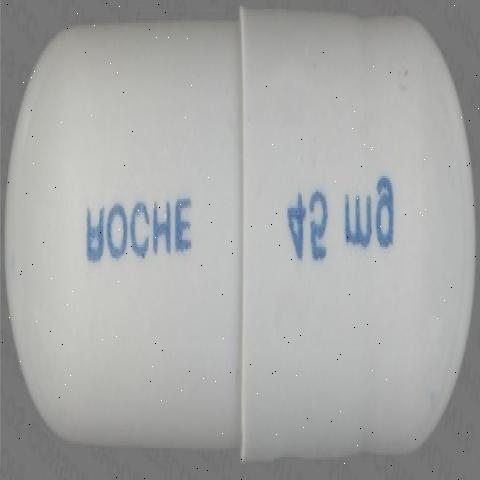Pill: (9, 8, 480, 471)
